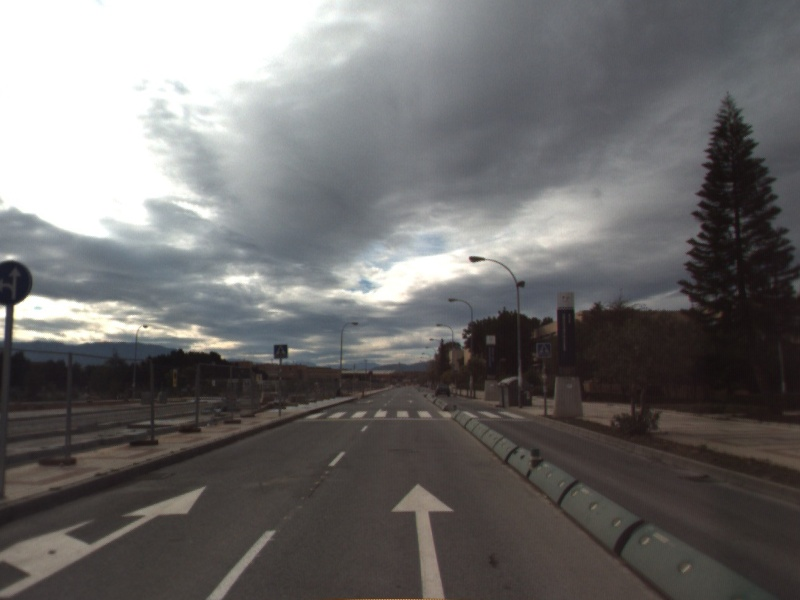STRAIGHT: (388, 481, 457, 600)
STRAIGHT_LEFT: (1, 484, 209, 599)
